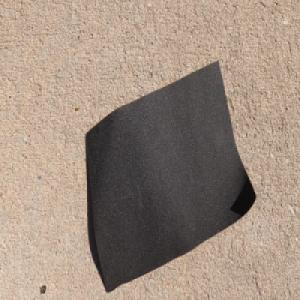PaintChip: (84, 59, 257, 292)
